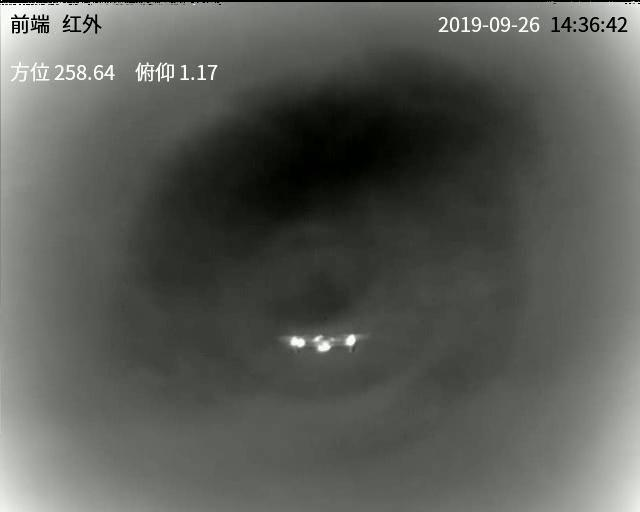DRONE: (289, 333, 358, 353)
